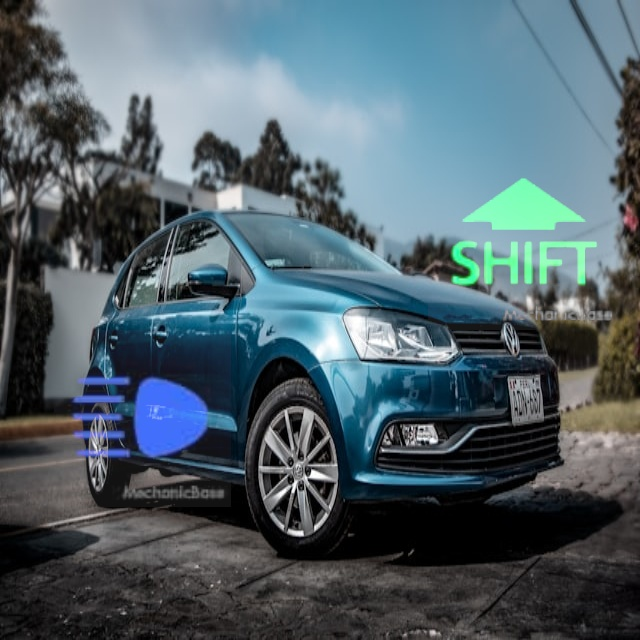symbol: (428, 138, 620, 330), (54, 330, 231, 507)
